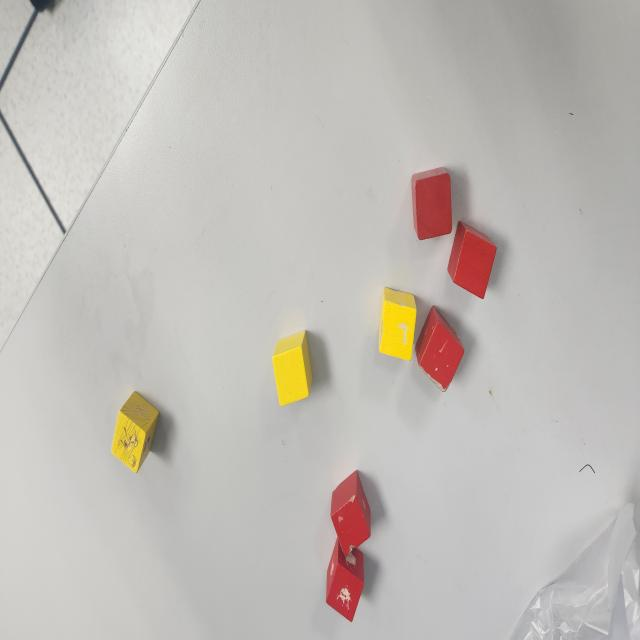broken: (414, 305, 466, 393), (111, 390, 159, 474), (330, 471, 370, 558), (326, 536, 363, 622), (378, 286, 417, 362)
red: (446, 220, 496, 301), (412, 168, 452, 242)
yellow: (272, 332, 311, 408)
